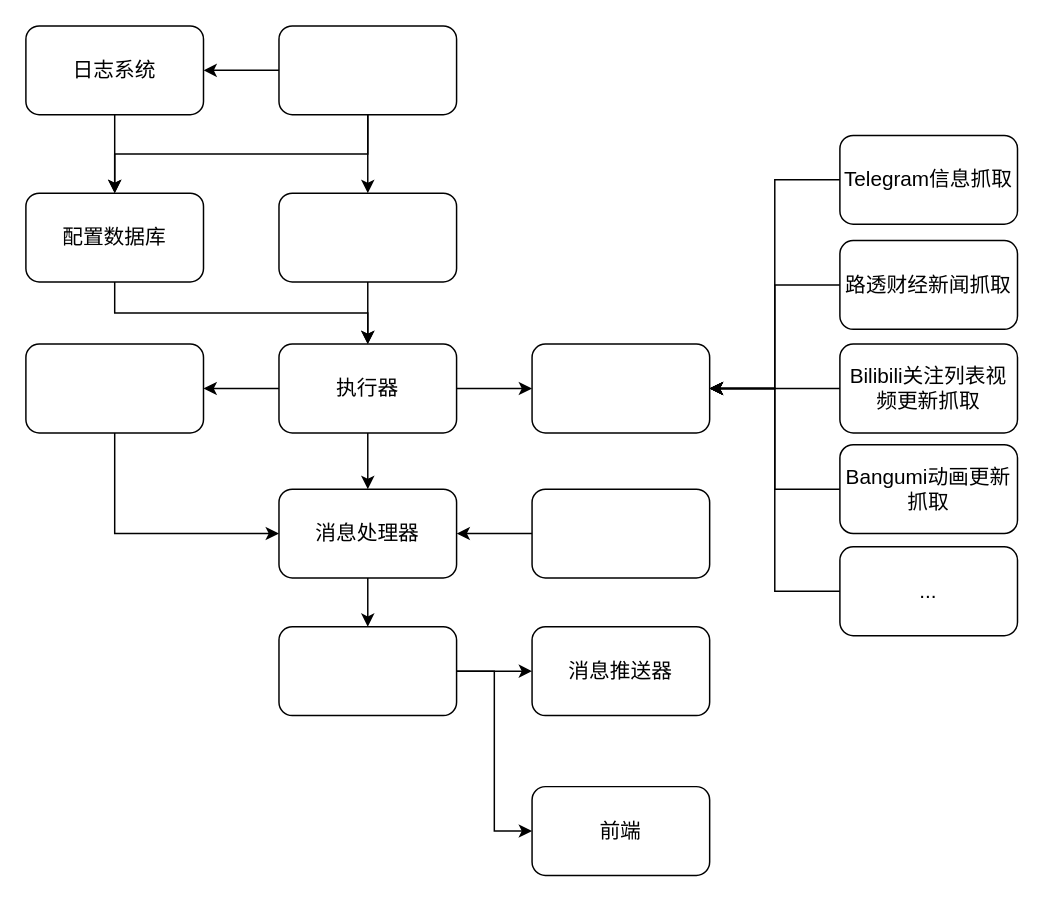
The diagram is 1043 pixels wide and 901 high, and some of its shapes have lost their labels. Each missing label, with the centre of its shape:
"AI打标模块" belongs at point (620, 533).
"任务管理器" belongs at point (367, 237).
"模块加载器" belongs at point (620, 388).
"管理后台 Web" belongs at point (367, 69).
"采集数据库" belongs at point (114, 388).
"页面拼装器 （PDF HTML）" belongs at point (367, 670).
